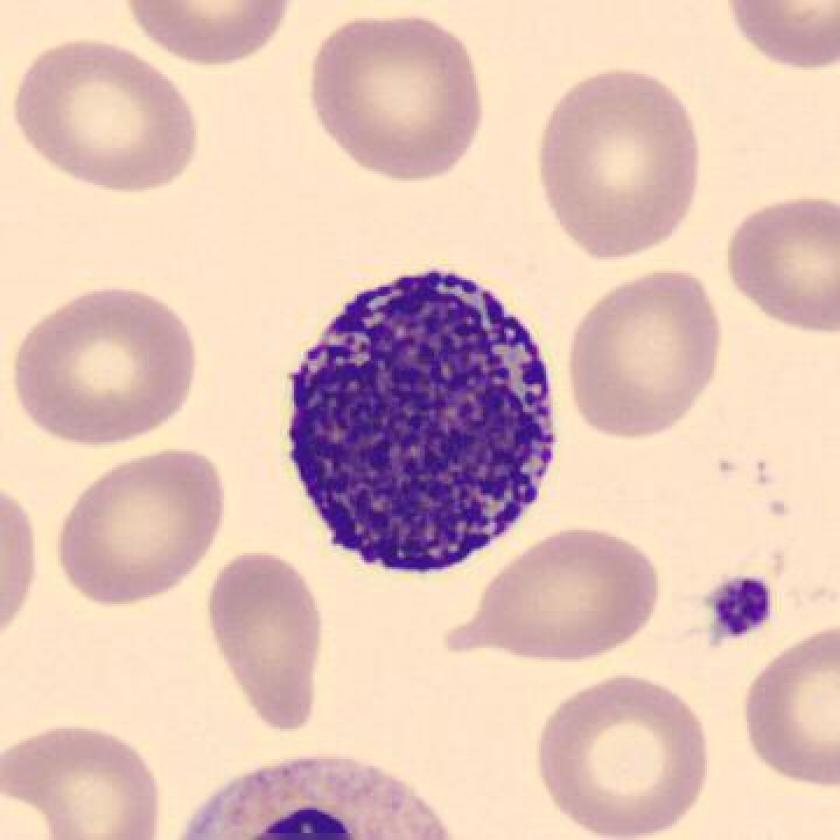basophil: (281, 265, 573, 584), (169, 741, 451, 840)
